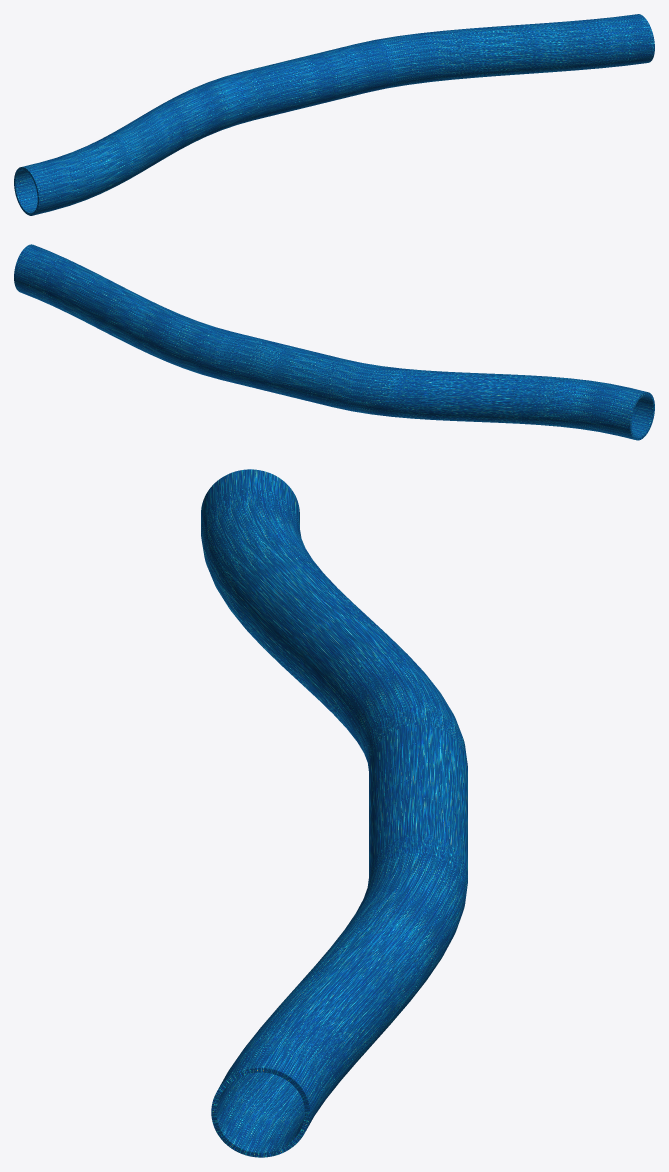
File: water path 3.fbx
3 renders of one model, top to bottom at view 1: azimuth 30°, elevation 25°; view 2: azimuth 150°, elevation 25°; view 3: azimuth 270°, elevation 25°, orthographic. The views are drawn at different scales.
Visible parts, largest first — view 1: Cylinder; view 2: Cylinder; view 3: Cylinder.
Boxes of the visible parts, x1,y1,x2,y2 form: Cylinder: (14,14,654,215); Cylinder: (14,244,654,440); Cylinder: (201,469,467,1157).
Size of the model in its own units: 58751 by 4105 by 11076.
